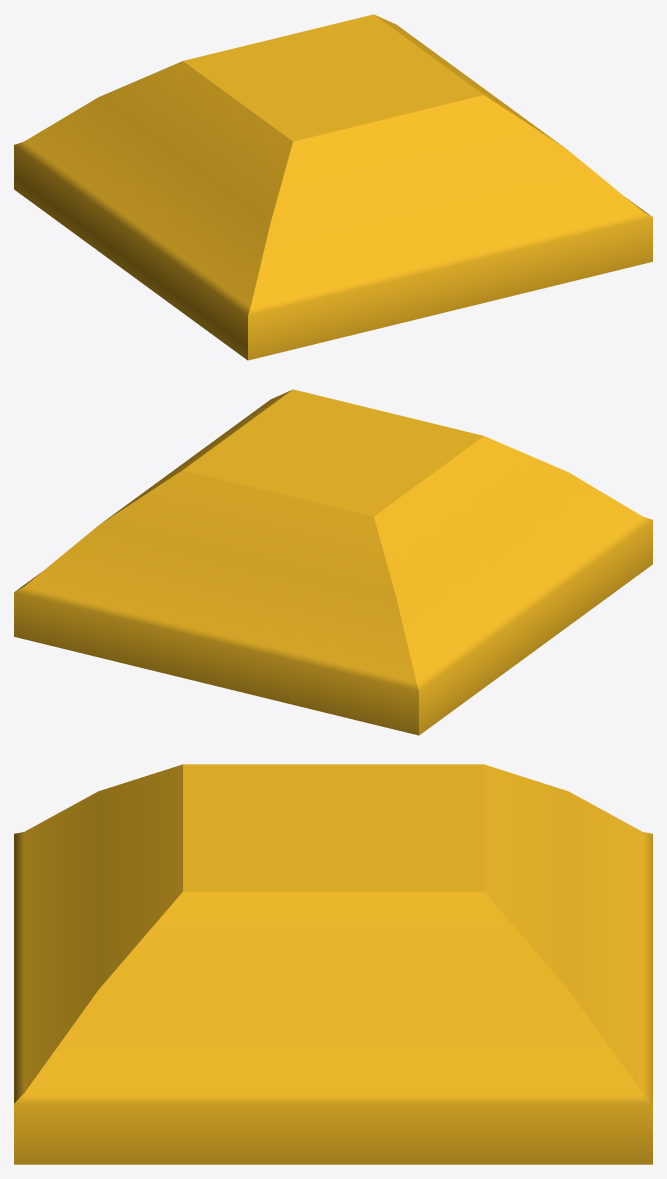
File: MOD_solsablebute.FBX
3 renders of one model, top to bottom at view 1: azimuth 30°, elevation 25°; view 2: azimuth 150°, elevation 25°; view 3: azimuth 270°, elevation 25°, orthographic. The views are drawn at different scales.
Visible parts, largest first — view 1: MOD_terrainherbeE001; view 2: MOD_terrainherbeE001; view 3: MOD_terrainherbeE001.
Boxes of the visible parts, x1=… form: MOD_terrainherbeE001: x1=14, y1=14, x2=652, y2=360; MOD_terrainherbeE001: x1=14, y1=389, x2=652, y2=735; MOD_terrainherbeE001: x1=14, y1=764, x2=652, y2=1164.
Bounding box in the file's own units: 1 × 0.3481 × 1.
